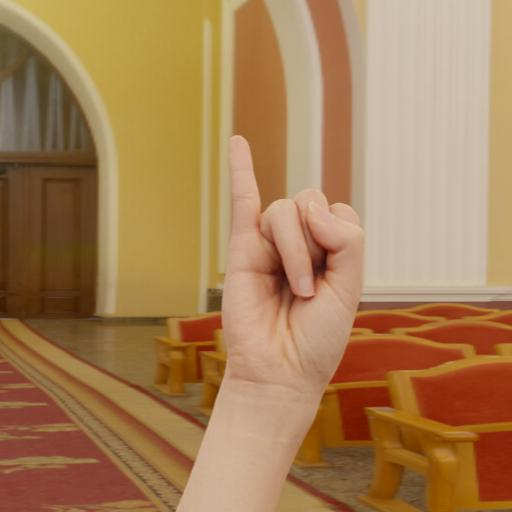I: (187, 126, 386, 454)
